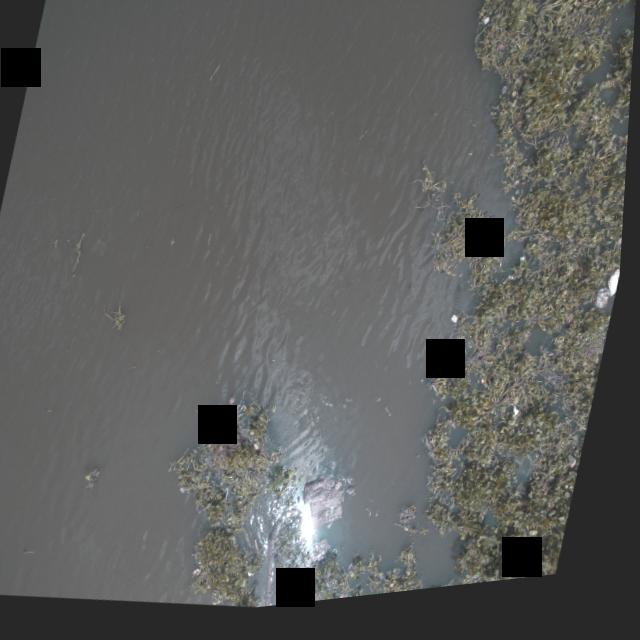plastic: (297, 471, 362, 543), (313, 543, 341, 578), (596, 293, 619, 328), (607, 272, 625, 314), (449, 317, 470, 339), (569, 466, 586, 483), (516, 414, 528, 430), (483, 22, 492, 40), (587, 347, 599, 360), (471, 259, 480, 274), (184, 490, 193, 501), (0, 570, 9, 581), (522, 267, 532, 276), (453, 242, 461, 252), (609, 192, 616, 203), (201, 574, 210, 582), (600, 260, 605, 269)
